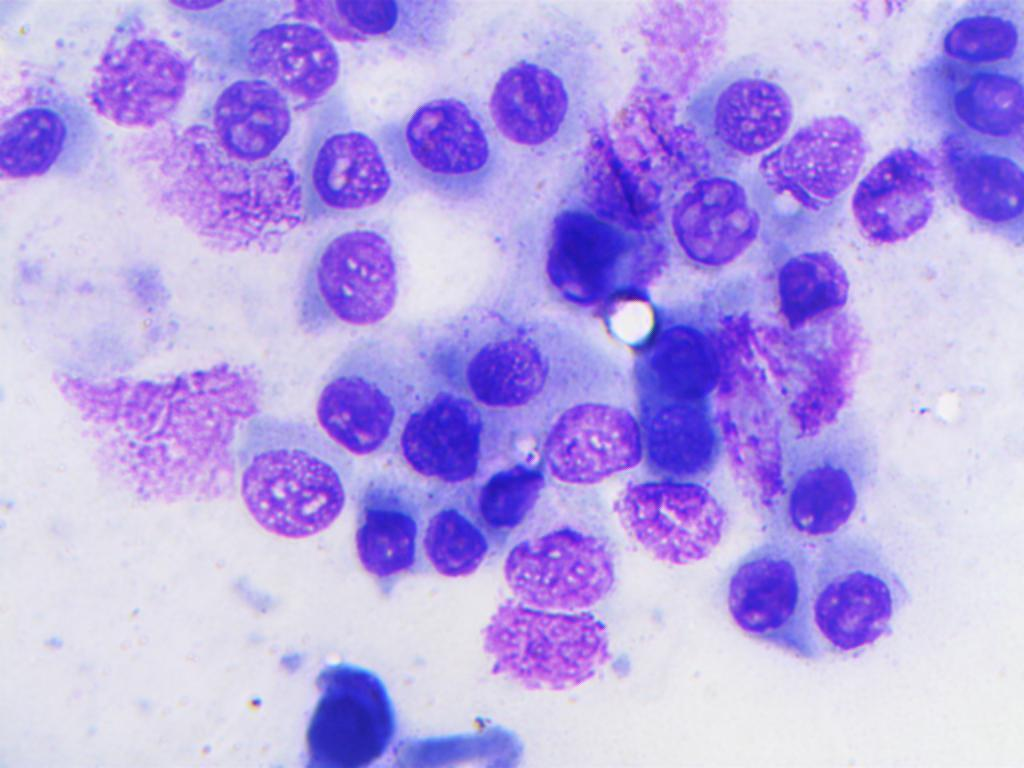artifact: (33, 350, 260, 503), (589, 6, 708, 226), (732, 316, 884, 442), (137, 137, 303, 241)
epithelial: (290, 649, 423, 768), (476, 604, 628, 690), (82, 25, 198, 129), (538, 207, 657, 308), (804, 545, 912, 650), (234, 444, 346, 544), (392, 90, 490, 201), (305, 219, 403, 330), (848, 135, 943, 249), (607, 479, 735, 561), (393, 381, 489, 488), (496, 519, 611, 608), (543, 392, 646, 490), (668, 161, 758, 273), (241, 18, 350, 110), (949, 143, 1023, 263), (308, 358, 397, 455), (345, 476, 422, 586), (702, 67, 794, 158), (484, 54, 576, 145), (642, 398, 732, 490), (640, 301, 722, 397), (768, 239, 861, 317), (465, 320, 548, 405), (780, 455, 858, 545), (210, 75, 292, 159), (722, 553, 797, 641), (926, 1, 1023, 65), (948, 66, 1024, 144), (313, 129, 387, 207), (1, 106, 67, 178), (422, 503, 485, 574)
erythrocyte: (590, 292, 673, 355)
